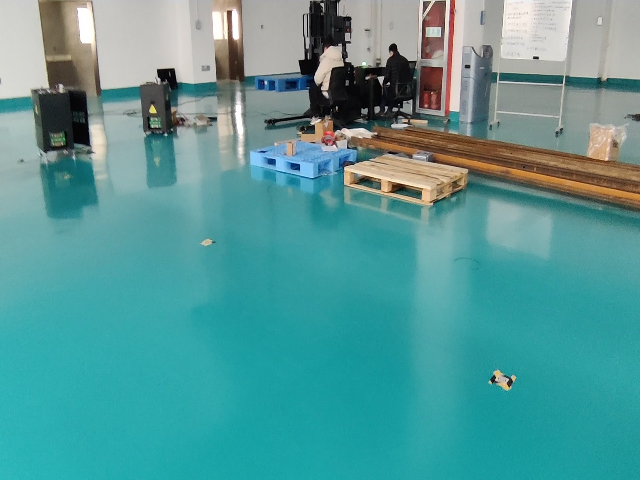block: (300, 161, 318, 178), (276, 157, 289, 174), (250, 151, 262, 167), (331, 154, 341, 172), (351, 149, 357, 162)
front: (312, 150, 358, 178)
hole pallet: (318, 160, 332, 176), (340, 156, 350, 168)
